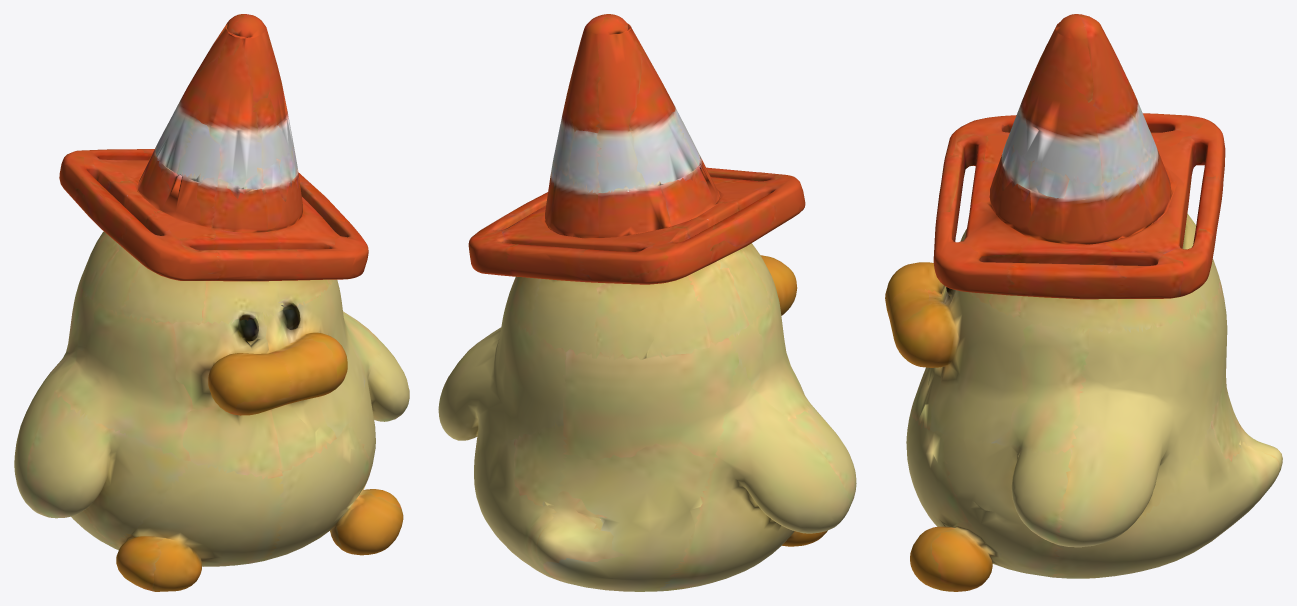
File: mochiusa.glb
The picture shows the model from 3 angles, left to right: view 1: azimuth 30°, elevation 25°; view 2: azimuth 150°, elevation 25°; view 3: azimuth 270°, elevation 25°; orthographic projection. The views are drawn at different scales.
Visible parts, largest first — view 1: tripo_node_43a1d517-fc56-4b56-8649-028b777bba84; view 2: tripo_node_43a1d517-fc56-4b56-8649-028b777bba84; view 3: tripo_node_43a1d517-fc56-4b56-8649-028b777bba84.
Part boxes in pixels (x1=…): tripo_node_43a1d517-fc56-4b56-8649-028b777bba84: x1=14, y1=14, x2=409, y2=591; tripo_node_43a1d517-fc56-4b56-8649-028b777bba84: x1=438, y1=14, x2=856, y2=591; tripo_node_43a1d517-fc56-4b56-8649-028b777bba84: x1=885, y1=14, x2=1282, y2=591.
Bounding box in the file's own units: 7.3 × 9.28 × 6.22.
Materials: 1 (1 with a texture image).
